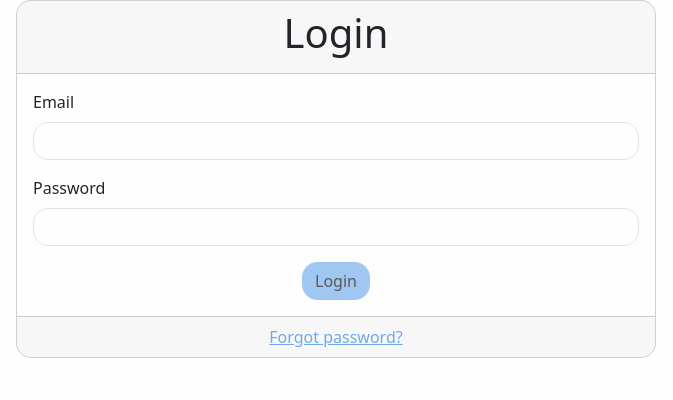
Test: Login Page › when user sets same value for inputs › when user submits form › when email is invalid › displays validation error
Type "user1@mail.com" into the field labelled "Email".
click(336, 141); type("user1@mail.com")  # box x1=33 y1=122 x2=639 y2=160
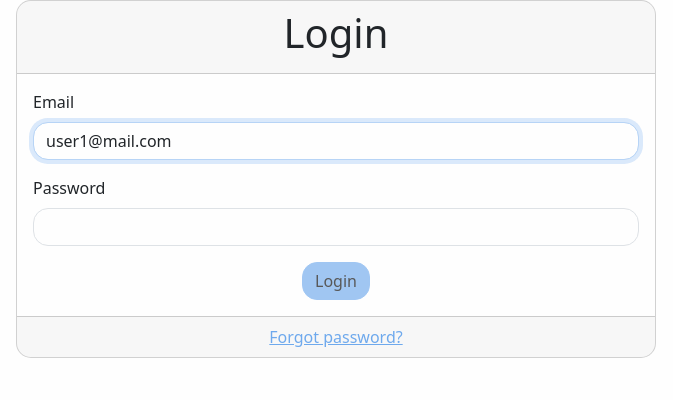
Type "P4ssword" into the password field labelled "Password".
click(336, 227); type("P4ssword")  # box x1=33 y1=208 x2=639 y2=246
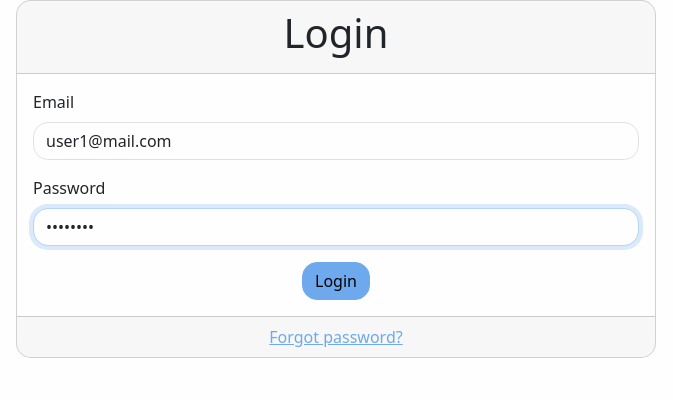
Click the button "Login".
click(336, 281)  # box x1=302 y1=262 x2=370 y2=300
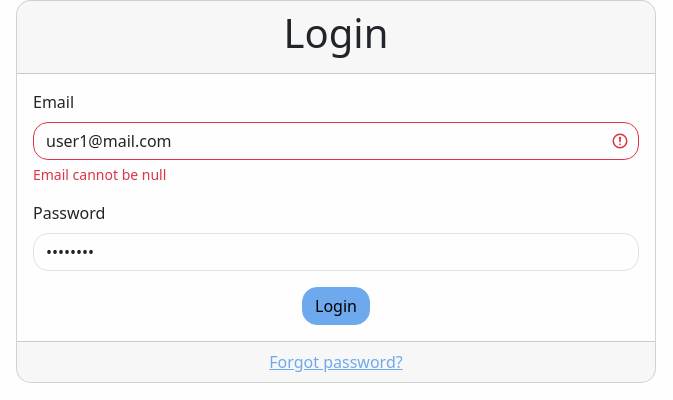
expect the text "Email cannot be null" is shown: met, box x1=33 y1=165 x2=166 y2=184
